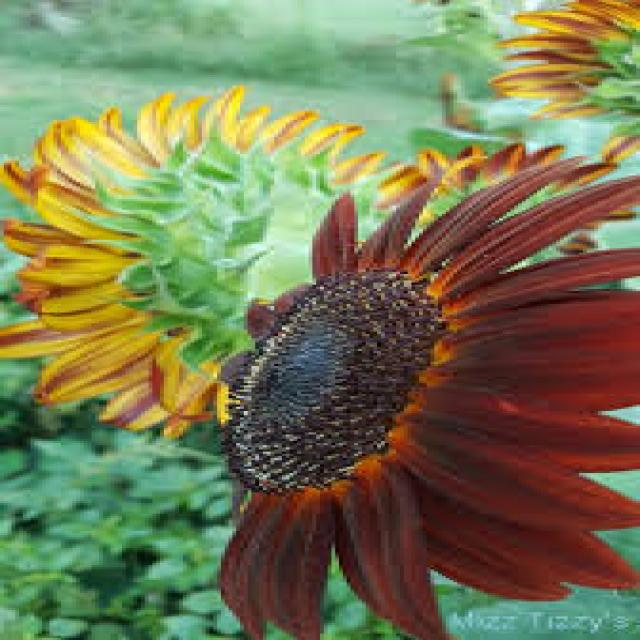sunflower: (217, 152, 640, 634), (0, 79, 530, 443), (476, 0, 640, 163), (359, 130, 640, 221)
